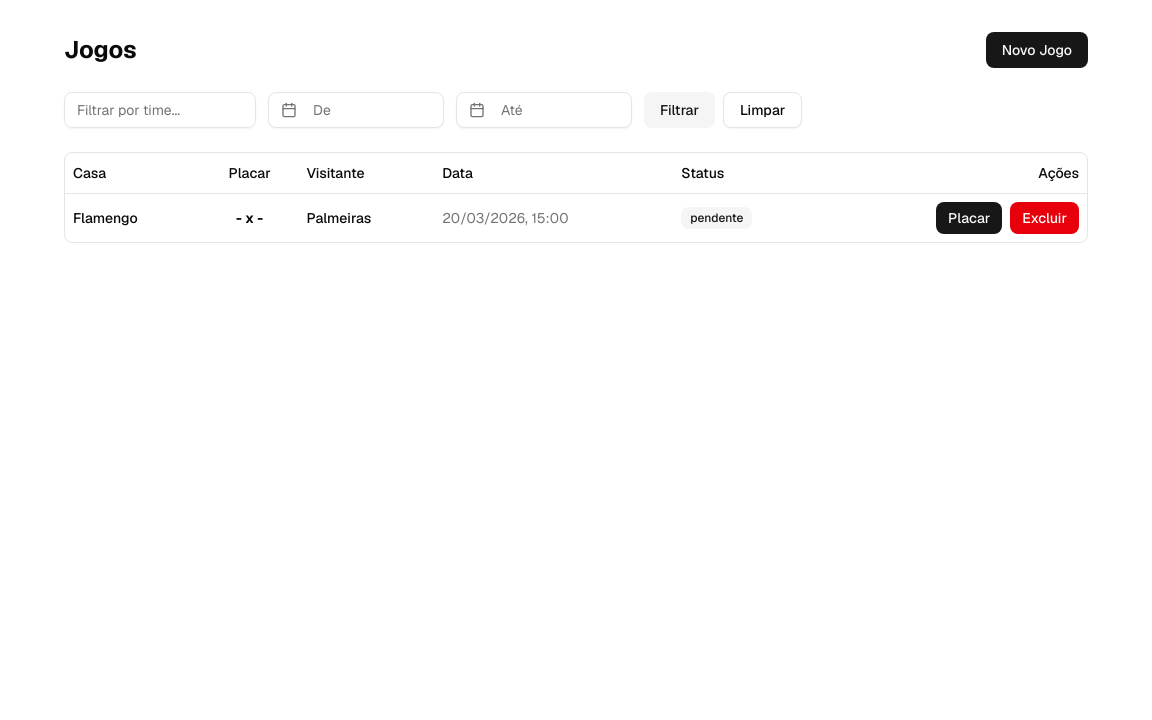
GamesClient › opens the create game dialog when clicking 'Novo Jogo'
What coordinates should you click on to do the following:
click the button "Novo Jogo"
I would click on:
 (1037, 50)
Its box is top-left (986, 32), bottom-right (1088, 68).
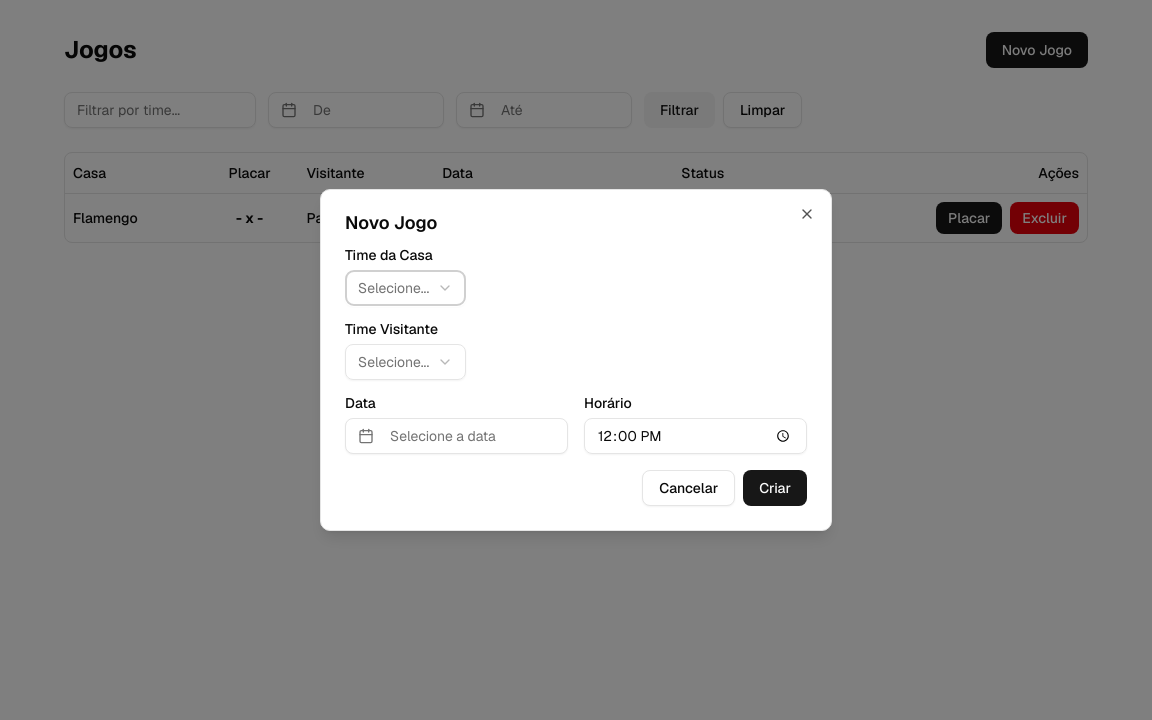
Expected: the dialog is shown, top-left (320, 189), bottom-right (832, 531)
Expected: the heading "Novo Jogo" is shown, top-left (345, 211), bottom-right (437, 234)
